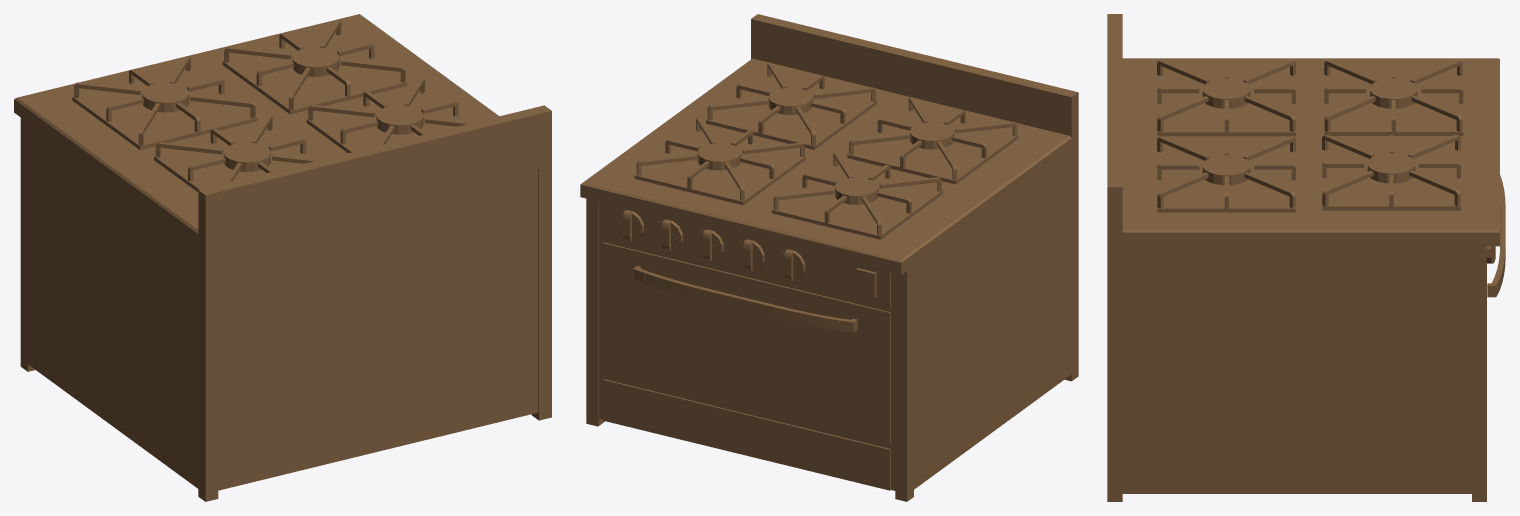
File: stove.glb
3 views of the same model, side by side, from view 1: azimuth 30°, elevation 25°; view 2: azimuth 150°, elevation 25°; view 3: azimuth 270°, elevation 25° (orthographic). The views are drawn at different scales.
Visible parts, largest first — view 1: st1; view 2: st1; view 3: st1.
Part boxes in pixels (x1,y1,x2,y2): st1: (14, 14, 551, 501); st1: (580, 14, 1078, 501); st1: (1107, 14, 1505, 501).
Bounding box in the file's own units: 2.13 × 1.8 × 2.06.
